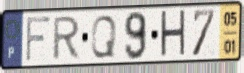7: (191, 8, 217, 58)
9: (122, 9, 148, 62)
F: (24, 15, 52, 64)
H: (159, 8, 188, 61)
Q: (89, 14, 119, 61)
R: (51, 14, 83, 63)
